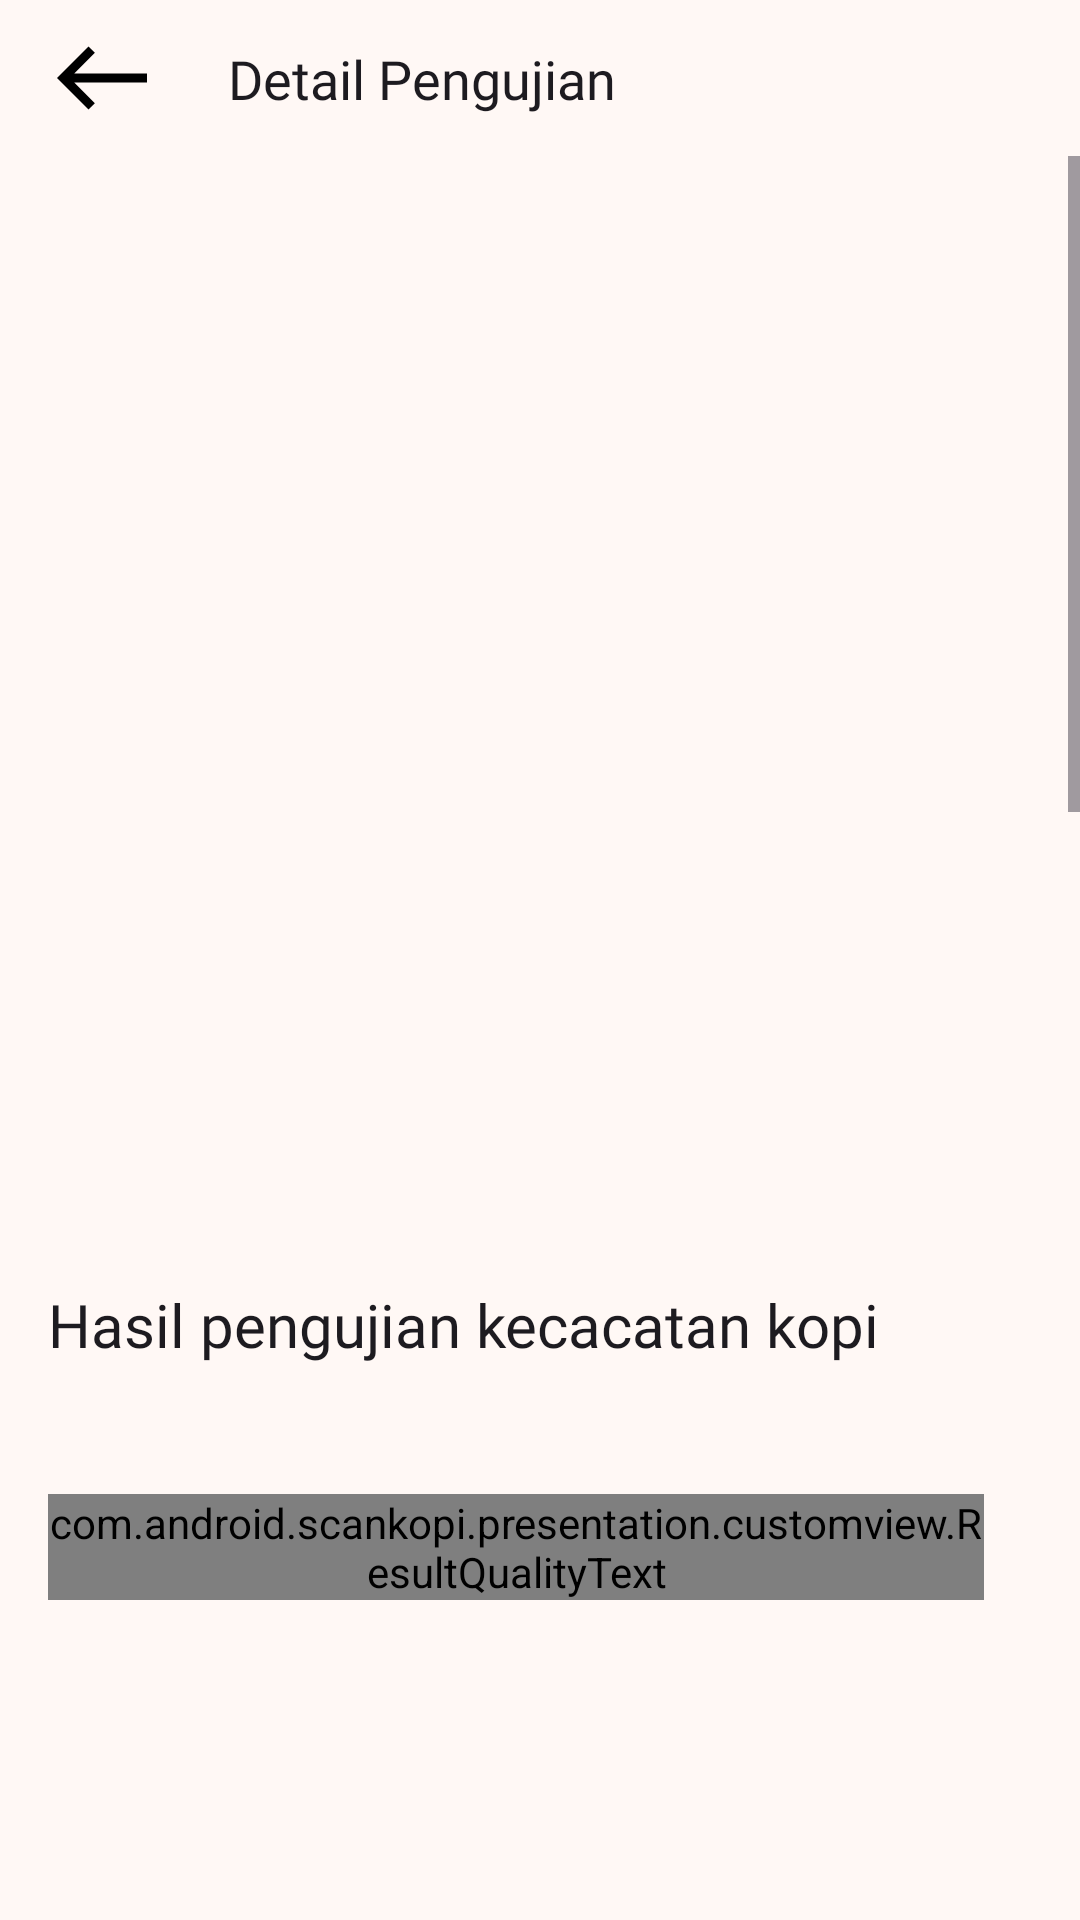

Named icons in this screenshot (1080x1920) and their centers, point (x, y):
Back button: point (102, 78)
